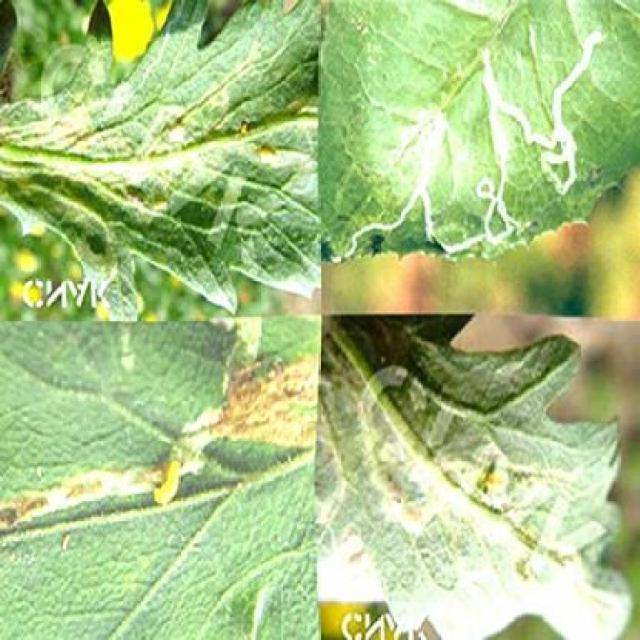whorl-maggot: (147, 452, 190, 514), (255, 142, 280, 168)
